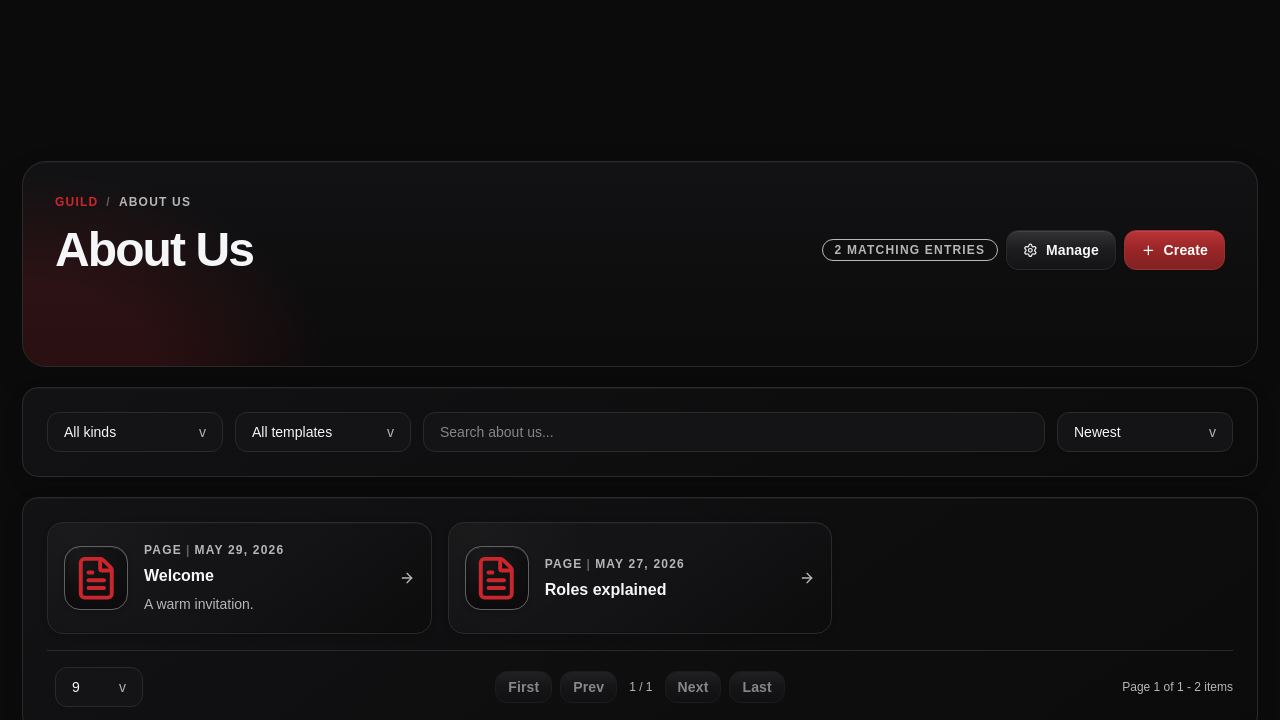
Test case: PublicCollectionHub › updates the matching count and renders the differentiated filtered empty state
Step 1. Type "missing" into the search field labelled "Search" → (734, 432), box [423, 412, 1045, 452]
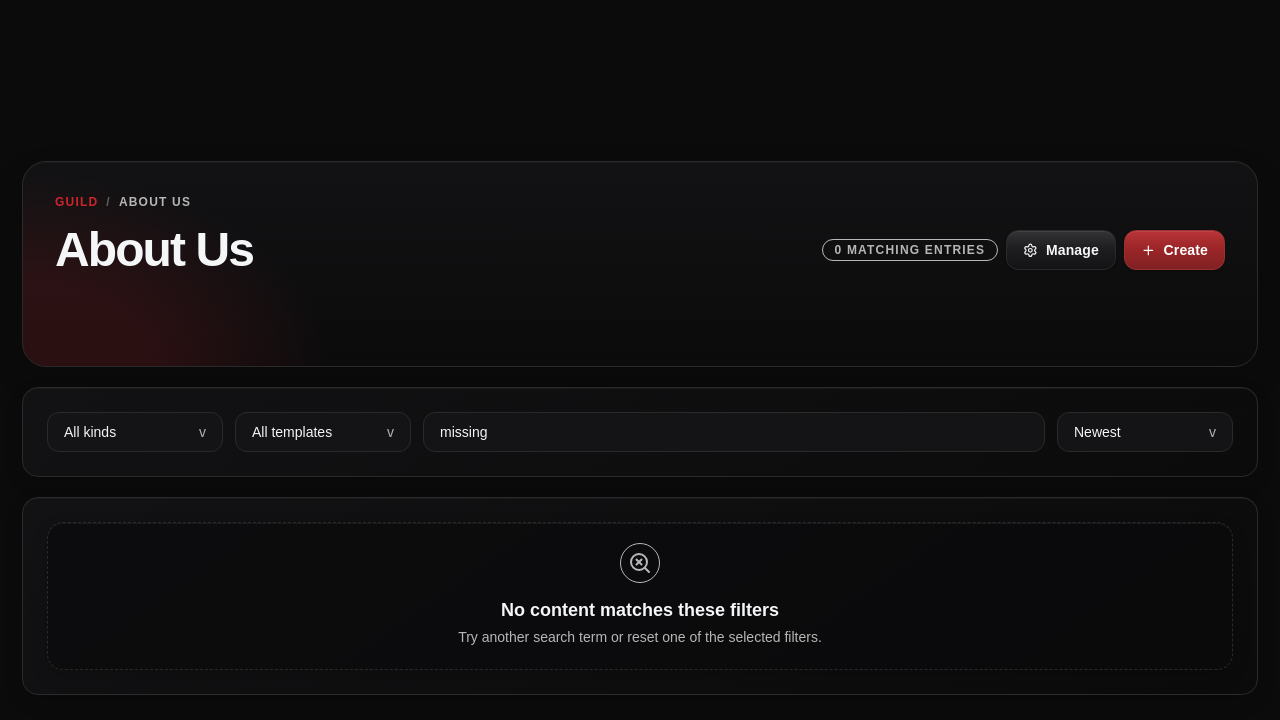
Expected: the text "0 matching entries" is shown, [822, 239, 998, 261]
Expected: the heading "No content matches these filters" is shown, [501, 600, 779, 620]
